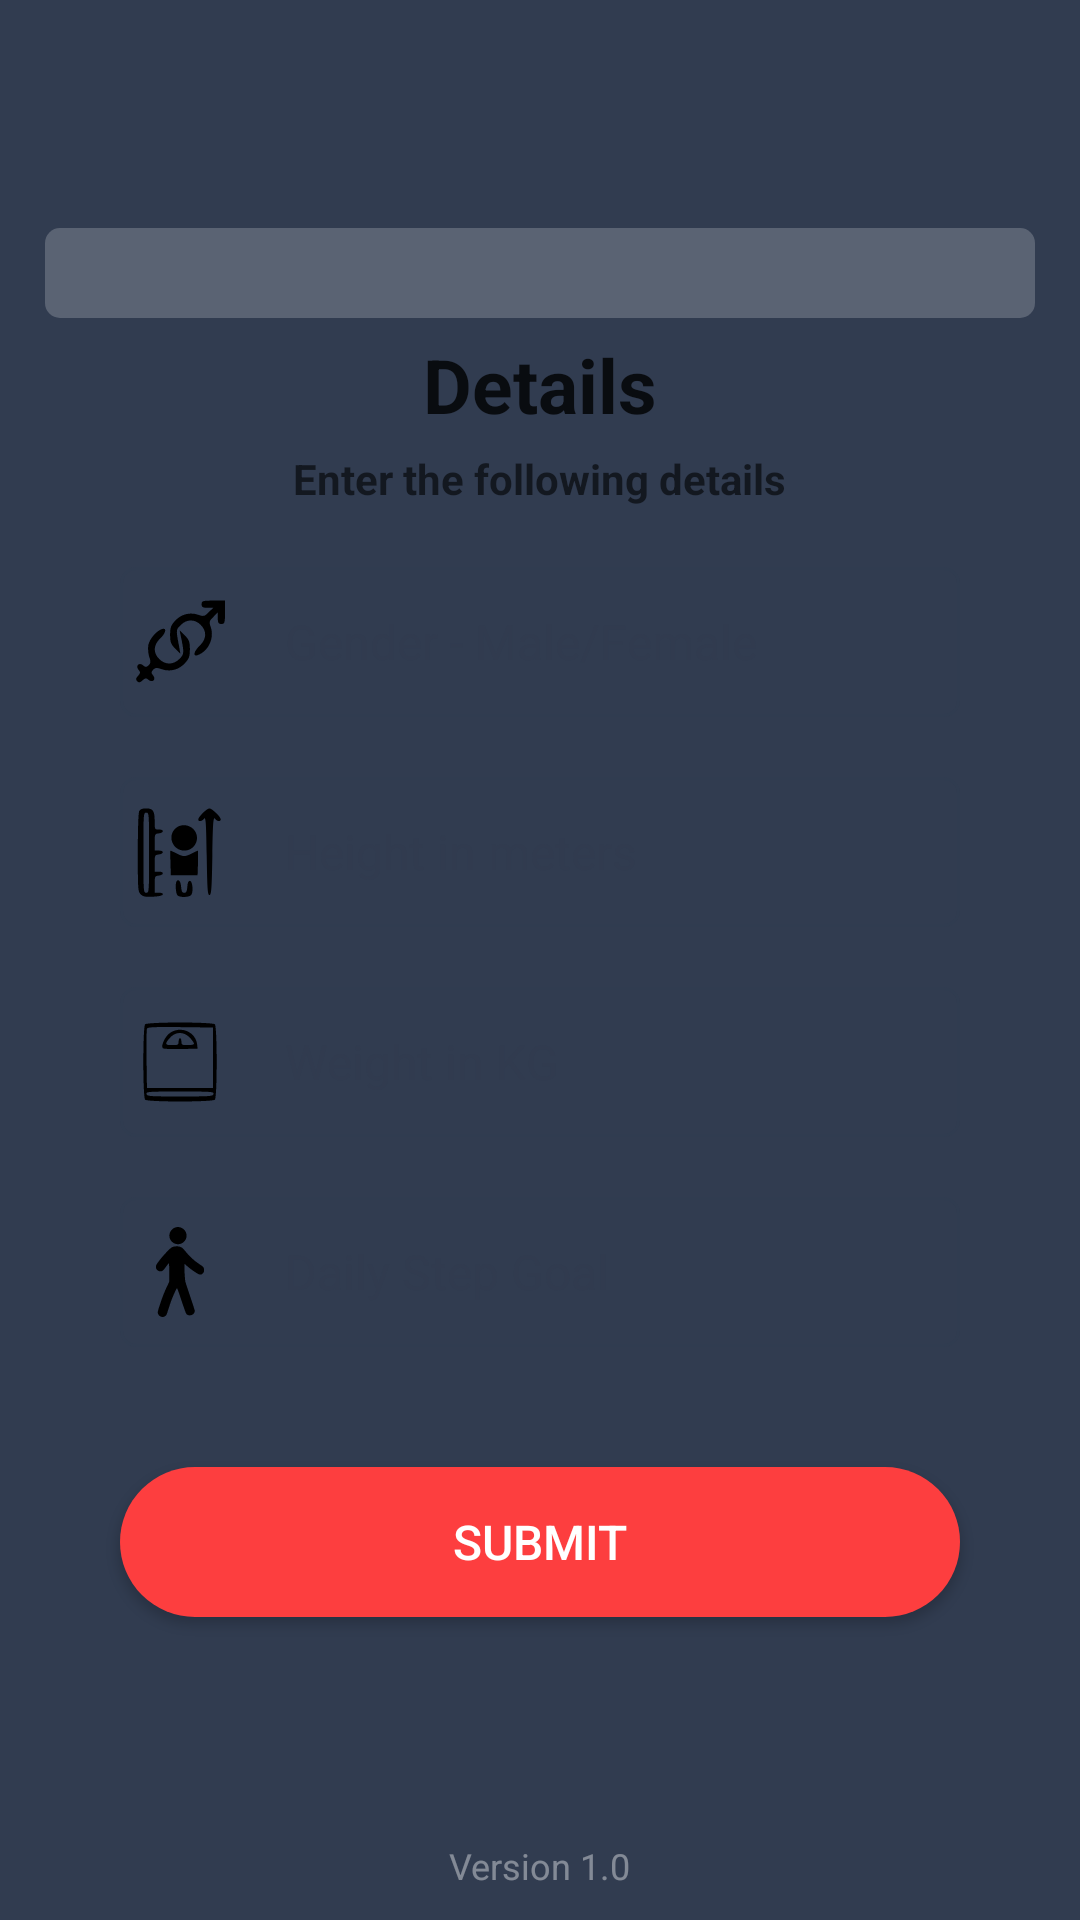

Where icons sit on this 1080px×1920px app screen, as box(x1, y1, x2, y2):
walking: box(156, 1227, 204, 1317)
